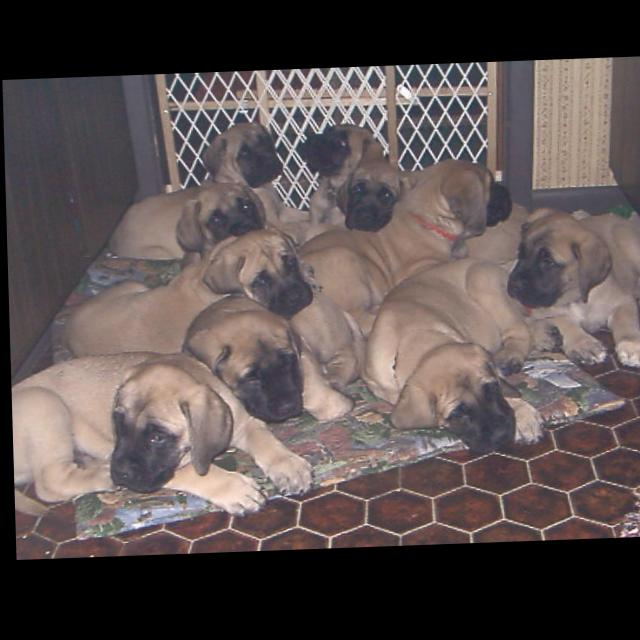mastiff: (9, 347, 311, 527), (362, 261, 567, 460), (277, 164, 517, 322), (62, 232, 312, 359), (101, 123, 310, 266), (181, 293, 368, 429), (504, 208, 640, 377), (283, 127, 389, 257), (173, 183, 270, 276), (334, 161, 414, 237)
